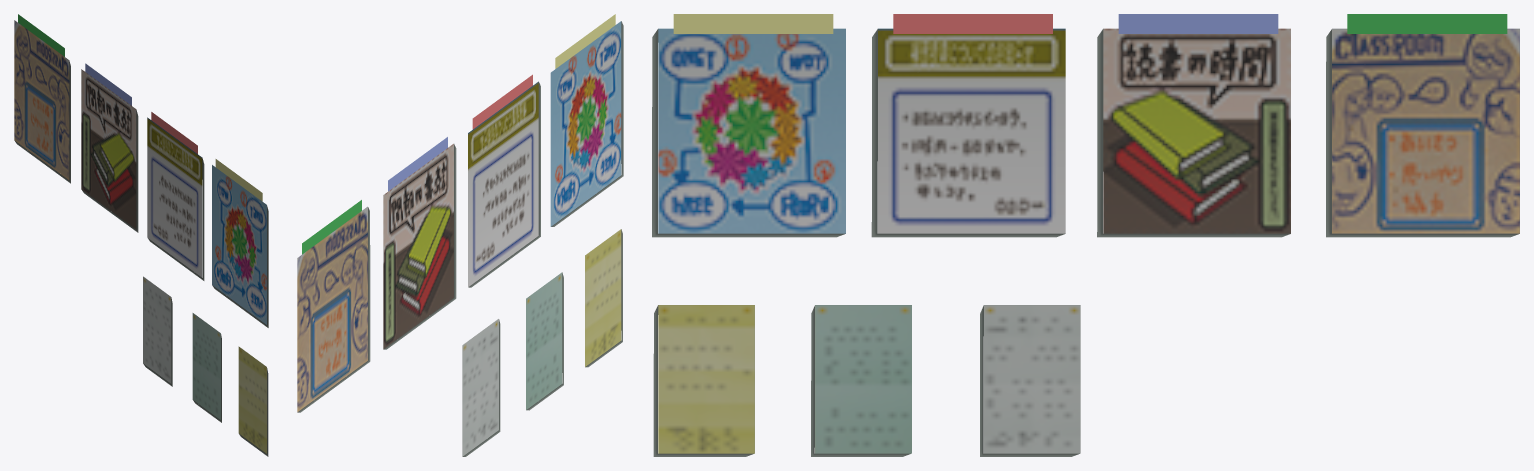
The model's file is HW_infoB.FBX.
3 renders of one model, left to right at view 1: azimuth 30°, elevation 25°; view 2: azimuth 150°, elevation 25°; view 3: azimuth 270°, elevation 25°, orthographic. The views are drawn at different scales.
Visible parts, largest first — view 1: HW_infoB; view 2: HW_infoB; view 3: HW_infoB.
Boxes of the visible parts, left/top/right/bottom form: HW_infoB: left=14, top=14, right=268, bottom=456; HW_infoB: left=297, top=14, right=623, bottom=456; HW_infoB: left=652, top=14, right=1519, bottom=456.
Bounding box in the file's own units: 0.0536 × 123 × 219.
